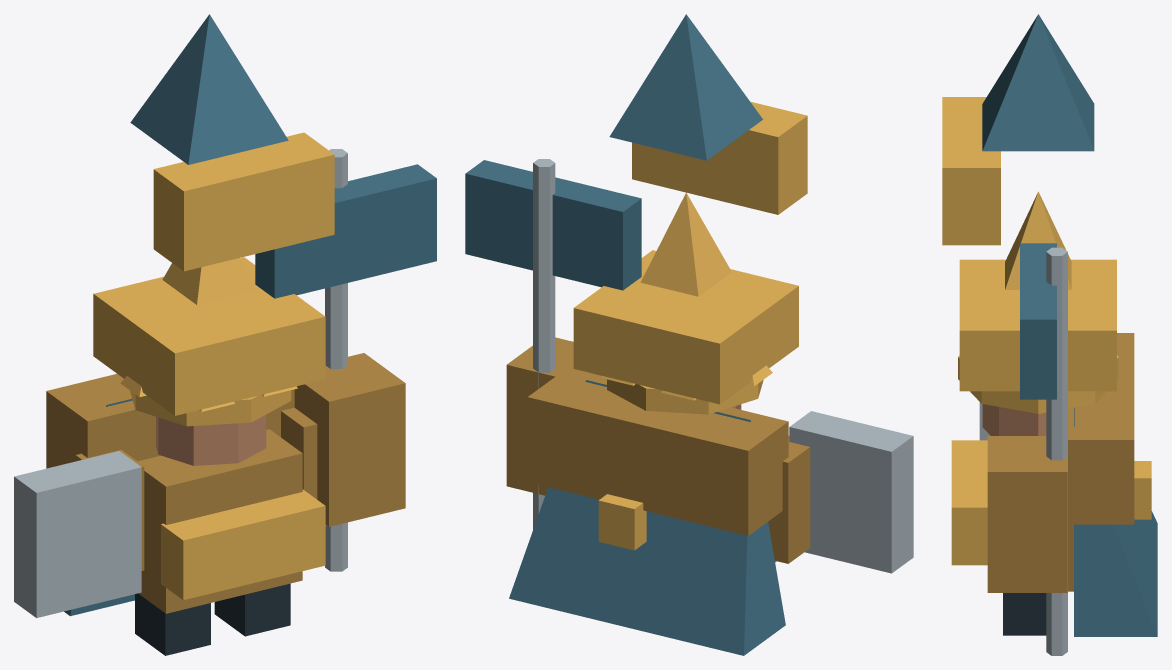
Rendered from hero.obj.
3 views of the same model, side by side, from view 1: azimuth 30°, elevation 25°; view 2: azimuth 150°, elevation 25°; view 3: azimuth 270°, elevation 25° (orthographic). The views are drawn at different scales.
Visible parts, largest first — view 1: hero; view 2: hero; view 3: hero.
Boxes of the visible parts, <box> form: hero: <box>14,14,436,655</box>; hero: <box>465,14,913,655</box>; hero: <box>942,14,1157,655</box>.
Bounding box in the file's own units: 1.76 × 2.45 × 0.8066.
